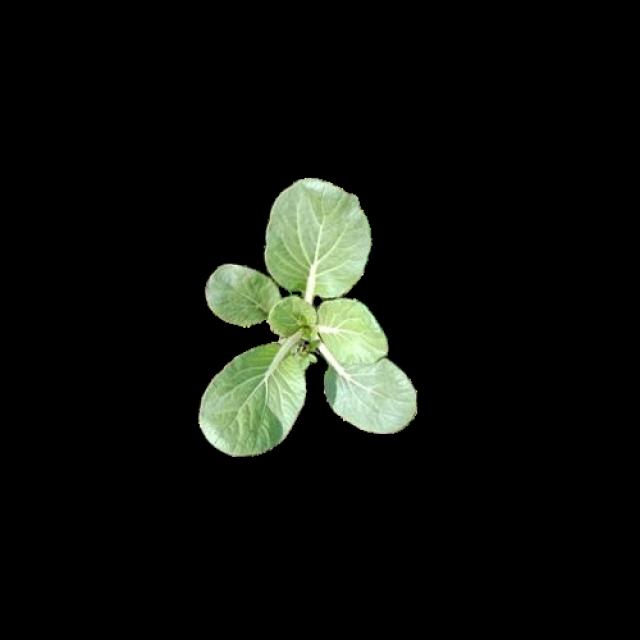healthy: (192, 173, 411, 449)
not-mature: (194, 175, 413, 452)
